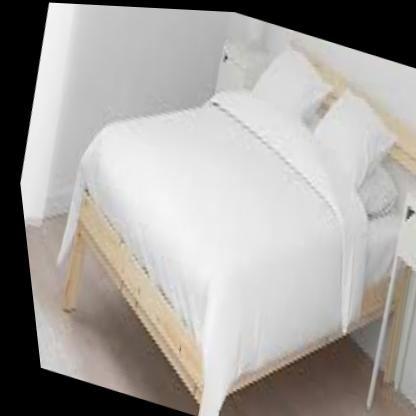Bed: (5, 0, 416, 416)
Nightstand: (332, 174, 416, 416)
